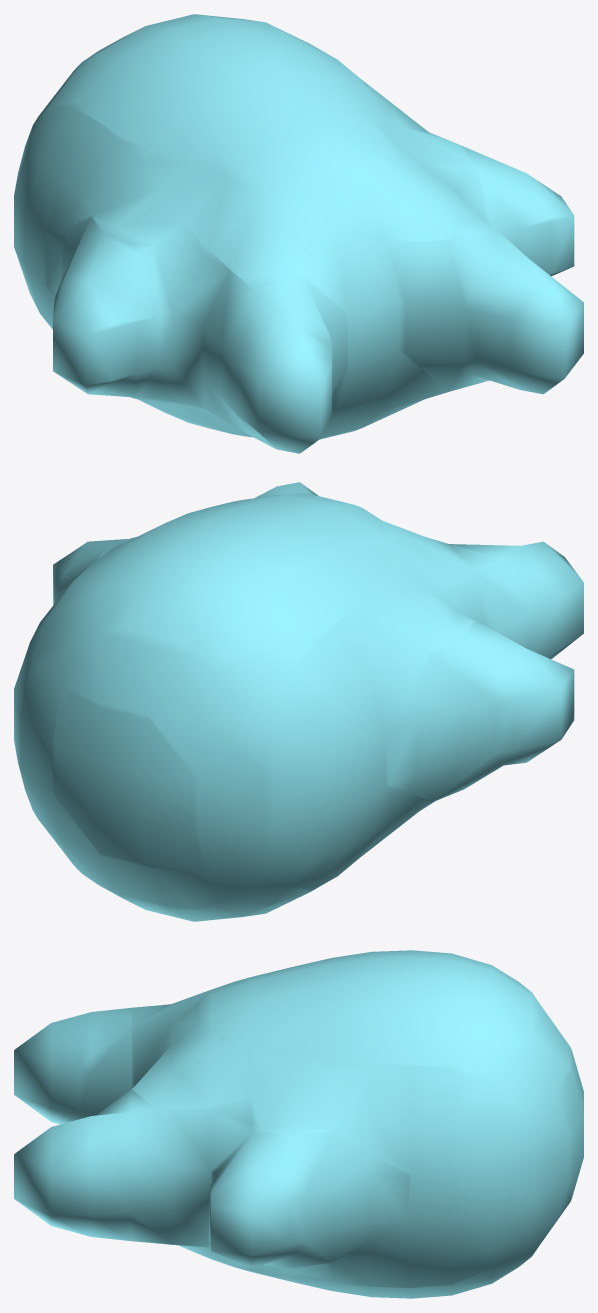
File: Player1.fbx
3 renders of one model, top to bottom at view 1: azimuth 30°, elevation 25°; view 2: azimuth 150°, elevation 25°; view 3: azimuth 270°, elevation 25°, orthographic. The views are drawn at different scales.
Parts seen in each view (by area): view 1: メタボール; view 2: メタボール; view 3: メタボール.
Boxes of the visible parts, left/top/right/bottom form: メタボール: left=14, top=14, right=583, bottom=453; メタボール: left=14, top=482, right=583, bottom=921; メタボール: left=14, top=950, right=583, bottom=1298.
Size of the model in its own units: 392 by 263 by 434.
